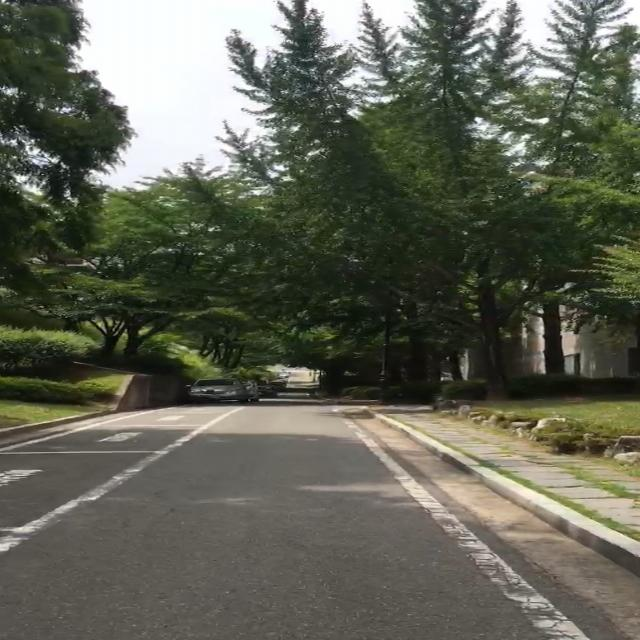obstacle: (187, 378, 286, 403)
road: (0, 406, 640, 640)
sidewalk: (370, 407, 640, 579)
